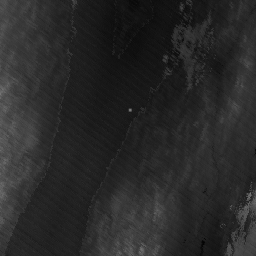Target: (126, 106, 133, 113)
